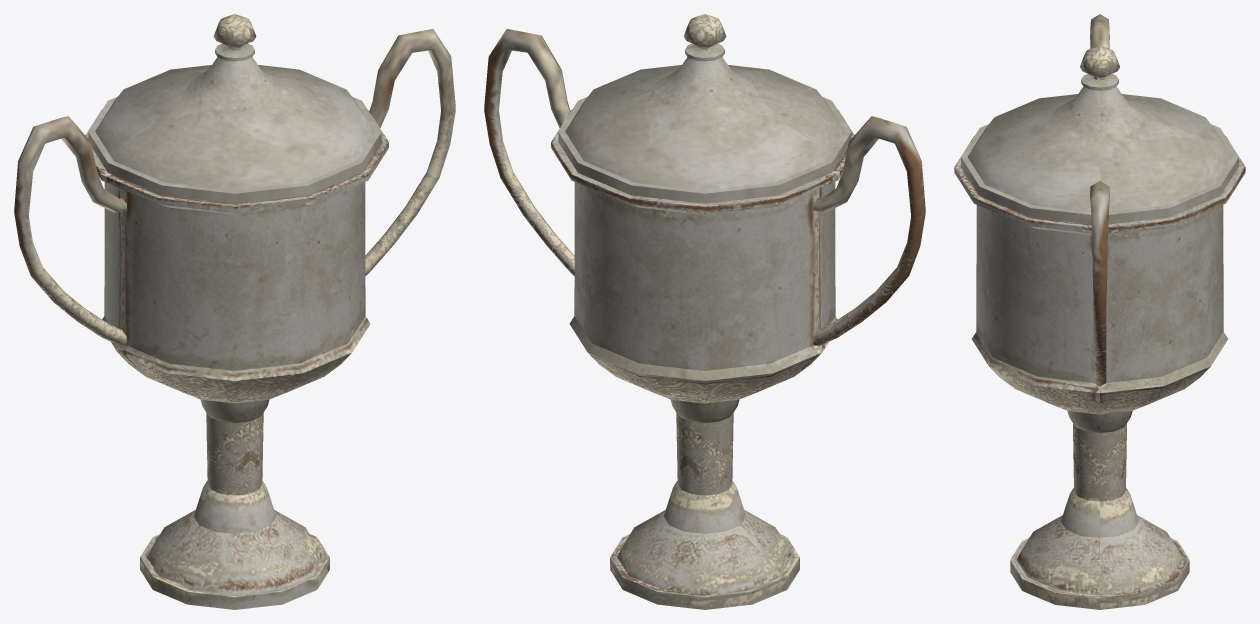
The model's file is copaGenerica6.FBX.
3 views of the same model, side by side, from view 1: azimuth 30°, elevation 25°; view 2: azimuth 150°, elevation 25°; view 3: azimuth 270°, elevation 25° (orthographic). The views are drawn at different scales.
Parts seen in each view (by area): view 1: copaGenerica6; view 2: copaGenerica6; view 3: copaGenerica6.
Boxes of the visible parts, x1,y1,x2,y2 form: copaGenerica6: (14, 14, 455, 609); copaGenerica6: (484, 14, 925, 609); copaGenerica6: (954, 14, 1245, 609).
Size of the model in its own units: 94.4 by 114 by 57.01.
